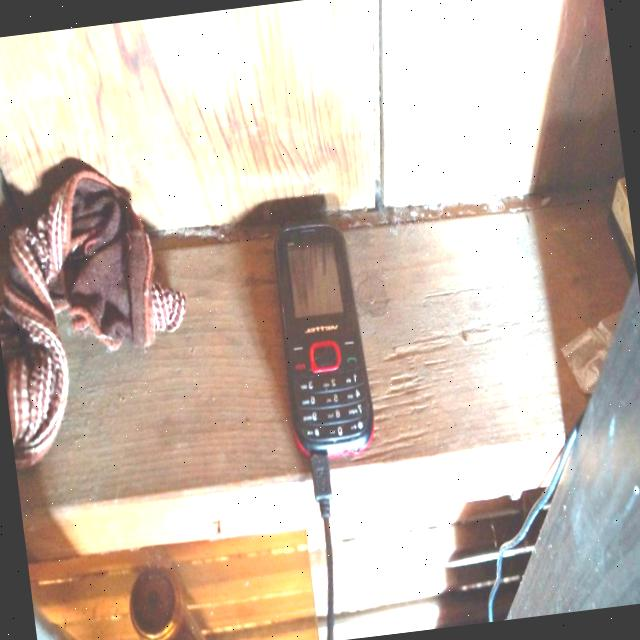Phone: (264, 216, 379, 464)
